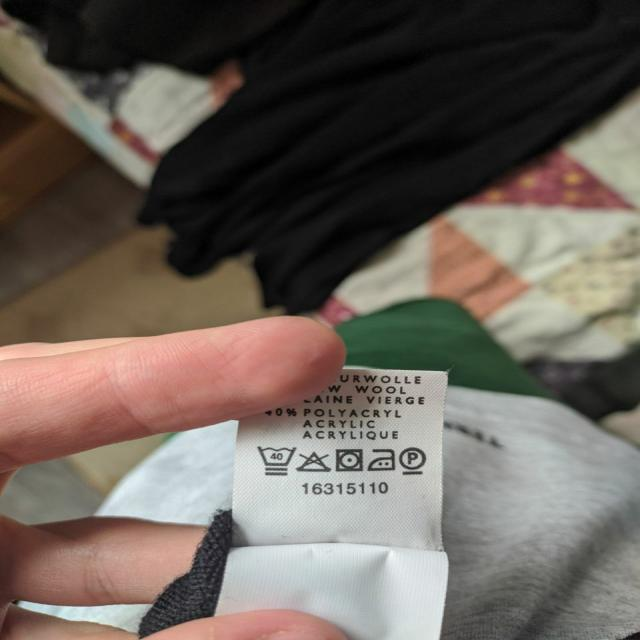40C: (254, 440, 299, 480)
DN_bleach: (297, 450, 329, 475)
dry_clean_any_solvent_except_trichloroethylene: (399, 444, 430, 476)
iron_medium: (368, 445, 398, 472)
tumble_dry_low: (336, 448, 365, 474)
